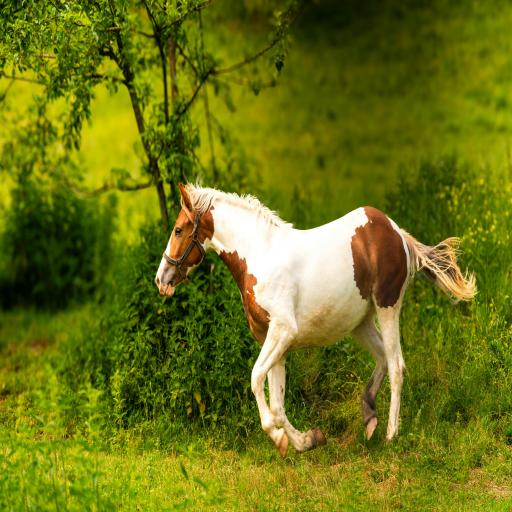horse: (151, 171, 482, 461)
